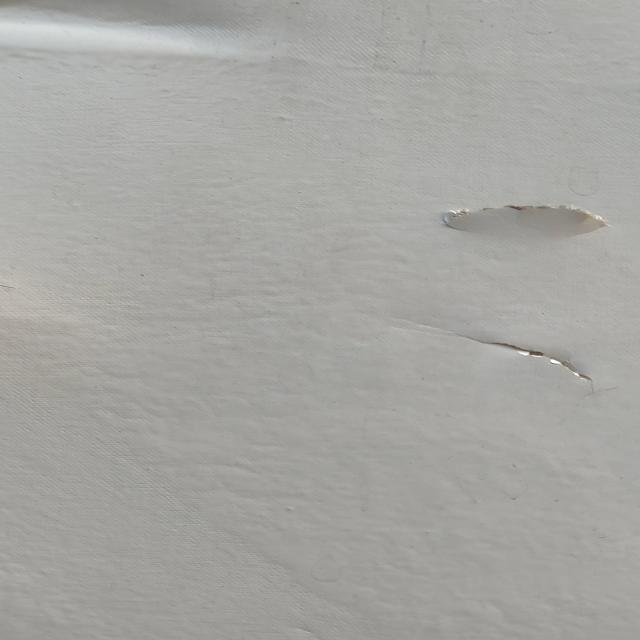Dents or Deformation: (1, 1, 287, 77)
Scratches: (408, 182, 617, 248), (414, 325, 616, 385)
